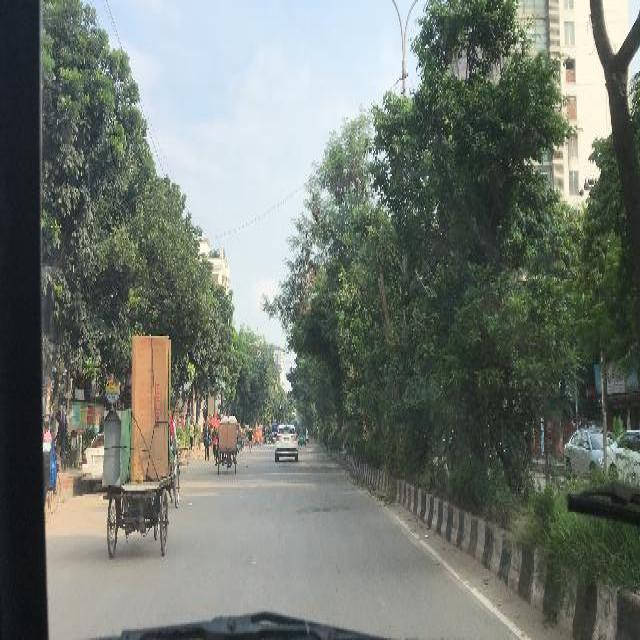vehicle: (104, 485, 170, 563), (562, 431, 606, 479), (82, 431, 103, 492), (276, 425, 298, 462), (218, 448, 238, 475), (179, 444, 191, 465), (298, 424, 306, 446), (240, 426, 245, 458), (264, 425, 270, 445), (246, 424, 251, 446), (272, 424, 275, 447)
